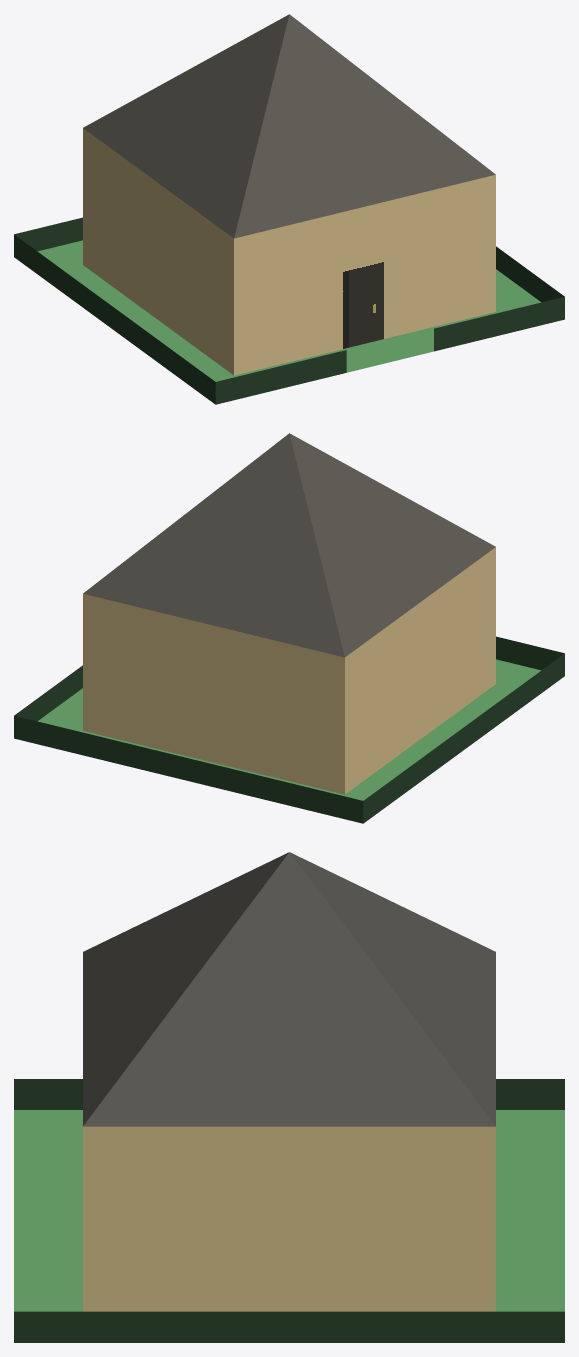
Rendered from house.054af557.gltf.
3 views of the same model, one above another, from view 1: azimuth 30°, elevation 25°; view 2: azimuth 150°, elevation 25°; view 3: azimuth 270°, elevation 25° (orthographic). The views are drawn at different scales.
Visible parts, largest first — view 1: cube (×4), pyramid, plane, bush (×2); view 2: cube (×3), pyramid, bush (×2), plane; view 3: pyramid, cube, plane, bush (×2).
Part boxes in pixels (x1,y1,x2,y2): cube (×4): (14,128,564,404); pyramid: (83,14,495,238); plane: (37,240,541,381); bush (×2): (14,234,564,404); cube (×3): (14,547,564,823); pyramid: (83,433,495,657); bush (×2): (14,653,564,823); plane: (37,659,541,800); pyramid: (83,852,495,1126); cube: (83,1126,495,1311); plane: (14,1110,564,1311); bush (×2): (14,1079,564,1342).
Size of the model in its own units: 2 by 1.5 by 2.
1 material, 1 textured.
